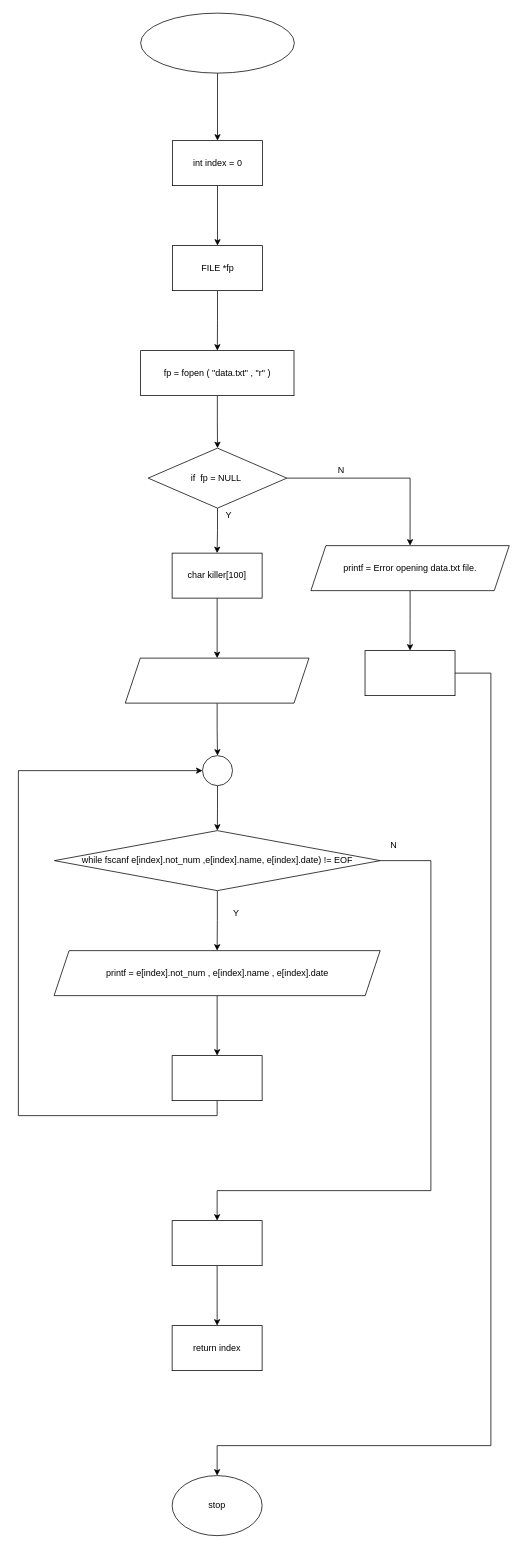
The diagram is 523 pixels wide and 1549 high, and some of its shapes have lost their labels. The shapes that lost their labels are listed below. From the top down, each one's centre as x and y in pixels, then its label:
At pixel 217 42: "start int FileManager (E e[100])".
At pixel 216 680: "fscanf = fp killer , killer , killer".
At pixel 409 673: "exit( 0 )".
At pixel 216 1078: "index = index + 1".
At pixel 216 1243: "fclose ( fp )".
